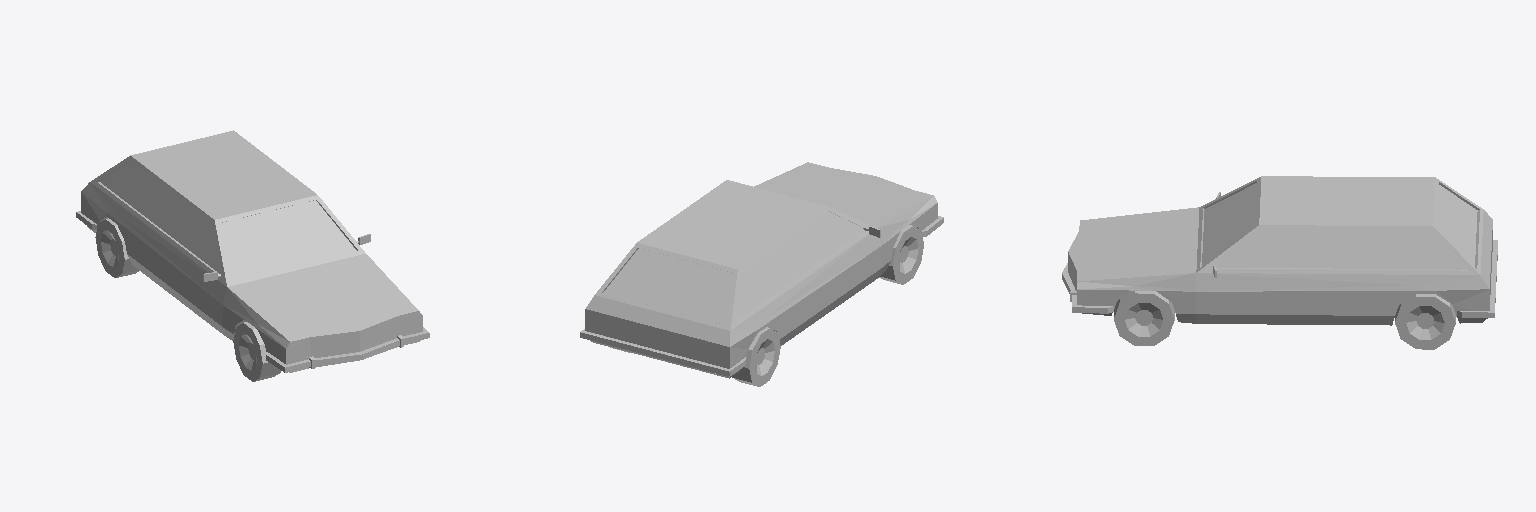
File: carnew.obj
3 views of the same model, side by side, from view 1: azimuth 30°, elevation 25°; view 2: azimuth 150°, elevation 25°; view 3: azimuth 270°, elevation 25° (orthographic).
Parts seen in each view (by area): view 1: Object010, Object013, Object014; view 2: Object010, Object014, Object013; view 3: Object010, Object011, Object012.
Boxes of the visible parts, x1=… form: Object010: x1=76, y1=130, x2=429, y2=372; Object013: x1=233, y1=322, x2=280, y2=381; Object014: x1=95, y1=218, x2=138, y2=277; Object010: x1=580, y1=162, x2=943, y2=378; Object014: x1=732, y1=327, x2=780, y2=386; Object013: x1=879, y1=225, x2=923, y2=284; Object010: x1=1062, y1=176, x2=1497, y2=325; Object011: x1=1114, y1=291, x2=1174, y2=345; Object012: x1=1395, y1=294, x2=1455, y2=349.
Bounding box in the file's own units: 406 × 264 × 929.